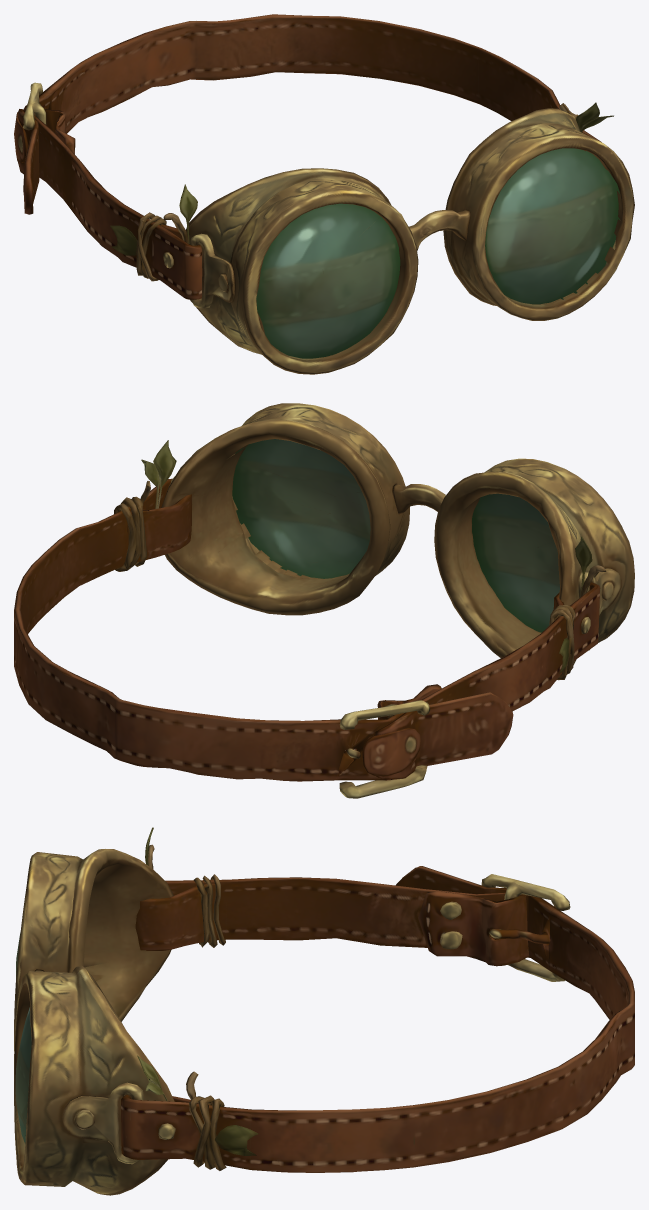
File: Wear_Goggles.fbx
The picture shows the model from 3 angles, top to bottom: view 1: azimuth 30°, elevation 25°; view 2: azimuth 150°, elevation 25°; view 3: azimuth 270°, elevation 25°; orthographic projection. The views are drawn at different scales.
Visible parts, largest first — view 1: Wear_Goggles; view 2: Wear_Goggles; view 3: Wear_Goggles.
Part boxes in pixels (left/top/right/bottom): Wear_Goggles: left=14, top=14, right=634, bottom=374; Wear_Goggles: left=14, top=403, right=634, bottom=798; Wear_Goggles: left=14, top=827, right=634, bottom=1195.
Bounding box in the file's own units: 0.2823 × 0.1064 × 0.29.
